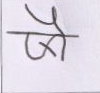au_matra: (46, 6, 72, 59)
